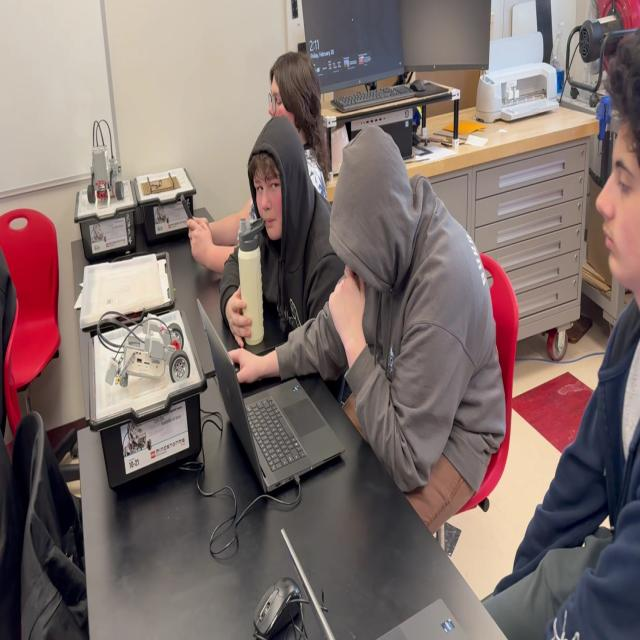pen: (180, 193, 199, 236)
